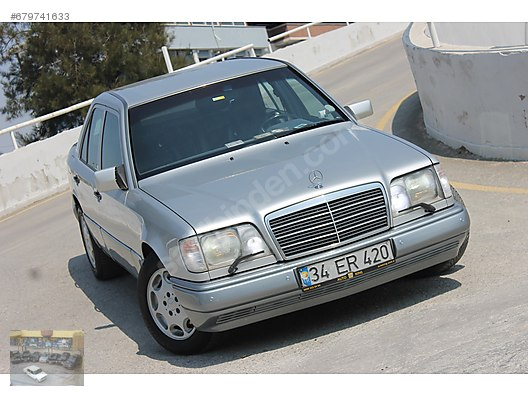mercedes: (66, 52, 473, 354)
